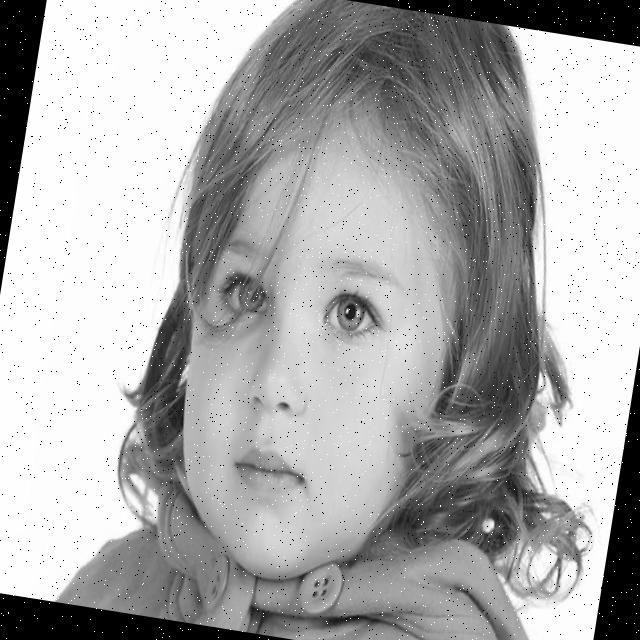Neutral: (156, 116, 478, 601)
